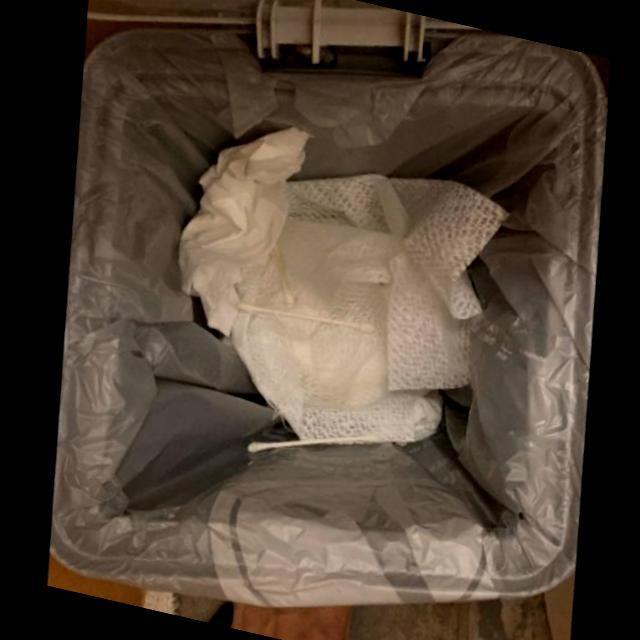giay: (224, 180, 502, 452), (172, 130, 305, 339)
